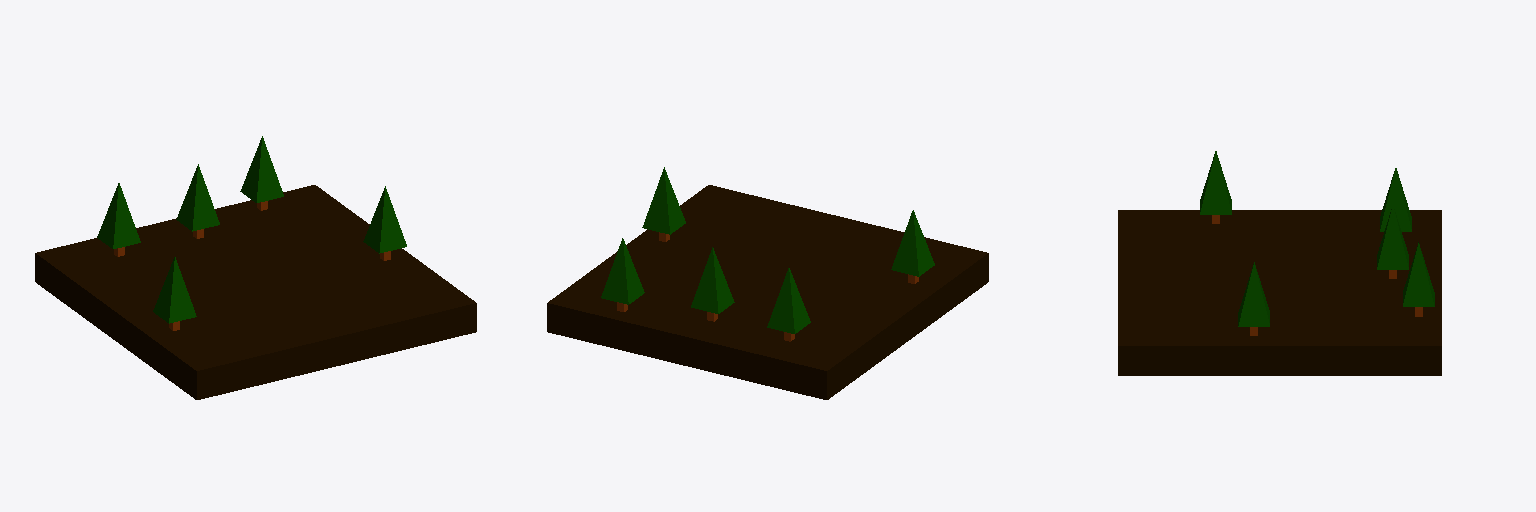
File: Forest1.obj
3 views of the same model, side by side, from view 1: azimuth 30°, elevation 25°; view 2: azimuth 150°, elevation 25°; view 3: azimuth 270°, elevation 25° (orthographic).
Parts seen in each view (by area): view 1: Tilebase147, Pyramid499, Pyramid501, Pyramid503, Pyramid505, Pyramid506; view 2: Tilebase147, Pyramid503, Pyramid505, Pyramid506, Pyramid501, Pyramid499; view 3: Tilebase147, Pyramid499, Pyramid503, Pyramid506, Pyramid505, Pyramid501.
Part boxes in pixels (x1,y1,x2,y2): Tilebase147: (35, 185, 476, 399); Pyramid499: (176, 164, 219, 231); Pyramid501: (97, 183, 140, 248); Pyramid503: (363, 186, 406, 253); Pyramid505: (240, 136, 283, 202); Pyramid506: (153, 257, 196, 323); Tilebase147: (547, 185, 988, 399); Pyramid503: (642, 167, 685, 234); Pyramid505: (601, 238, 644, 304); Pyramid506: (891, 210, 934, 276); Pyramid501: (767, 268, 810, 333); Pyramid499: (691, 247, 734, 313); Tilebase147: (1118, 210, 1441, 375); Pyramid499: (1377, 206, 1408, 269); Pyramid503: (1238, 262, 1269, 326); Pyramid506: (1200, 151, 1231, 214); Pyramid505: (1403, 242, 1434, 306); Pyramid501: (1380, 168, 1411, 231).
Size of the model in its own units: 10 by 3.5 by 10.